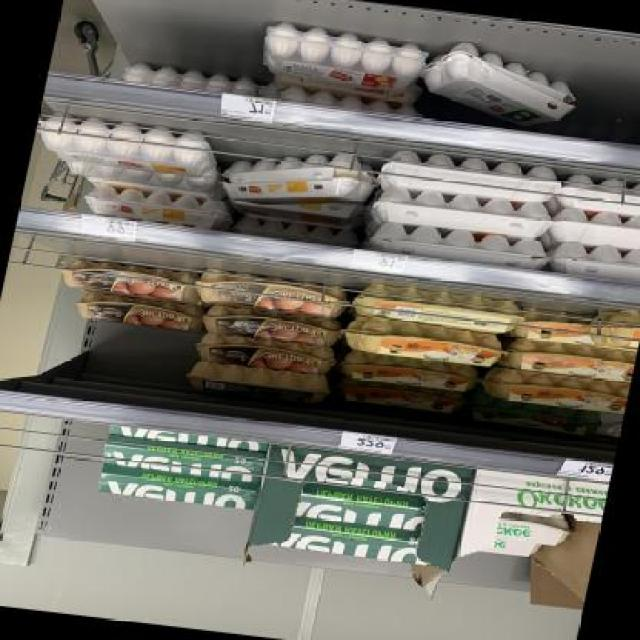Egg: (252, 18, 433, 97), (30, 112, 222, 179), (337, 312, 515, 374), (217, 152, 380, 217), (190, 267, 353, 321), (473, 366, 630, 419), (188, 329, 341, 382), (57, 254, 203, 308), (80, 182, 237, 230), (334, 347, 481, 398), (498, 336, 637, 386), (68, 288, 206, 338), (198, 302, 344, 349), (471, 506, 578, 551), (456, 532, 549, 568), (586, 304, 640, 354)
